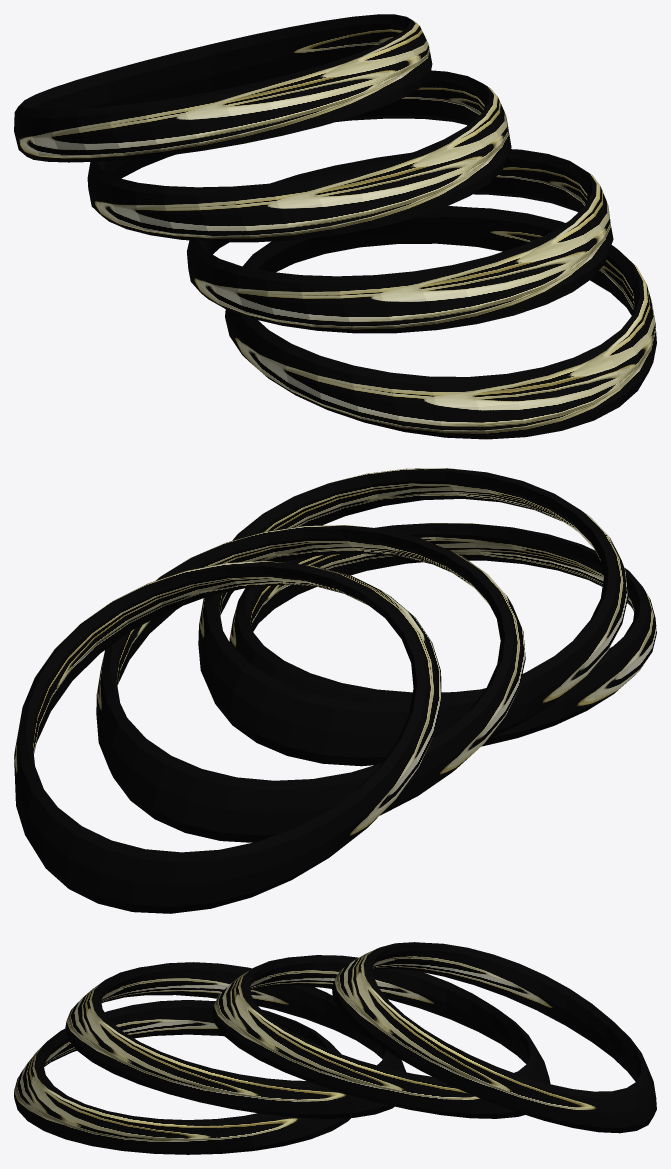
Rendered from OnionSliced.fbx.
3 views of the same model, one above another, from view 1: azimuth 30°, elevation 25°; view 2: azimuth 150°, elevation 25°; view 3: azimuth 270°, elevation 25° (orthographic). The views are drawn at different scales.
Visible parts, largest first — view 1: Cylinder.003, Cylinder, Cylinder.001, Cylinder.002; view 2: Cylinder.003, Cylinder.001, Cylinder.002, Cylinder; view 3: Cylinder.003, Cylinder.002, Cylinder.001, Cylinder.
Boxes of the visible parts, x1=… form: Cylinder.003: x1=14, y1=14, x2=432, y2=162; Cylinder: x1=225, y1=206, x2=656, y2=439; Cylinder.001: x1=187, y1=149, x2=613, y2=333; Cylinder.002: x1=87, y1=70, x2=511, y2=242; Cylinder.003: x1=14, y1=561, x2=441, y2=913; Cylinder.001: x1=198, y1=468, x2=628, y2=766; Cylinder.002: x1=96, y1=525, x2=525, y2=842; Cylinder: x1=229, y1=523, x2=656, y2=746; Cylinder.003: x1=332, y1=942, x2=656, y2=1133; Cylinder.002: x1=212, y1=955, x2=550, y2=1118; Cylinder.001: x1=65, y1=962, x2=405, y2=1118; Cylinder: x1=14, y1=1000, x2=350, y2=1154.
Bounding box in the file's own units: 197 × 100 × 418.
